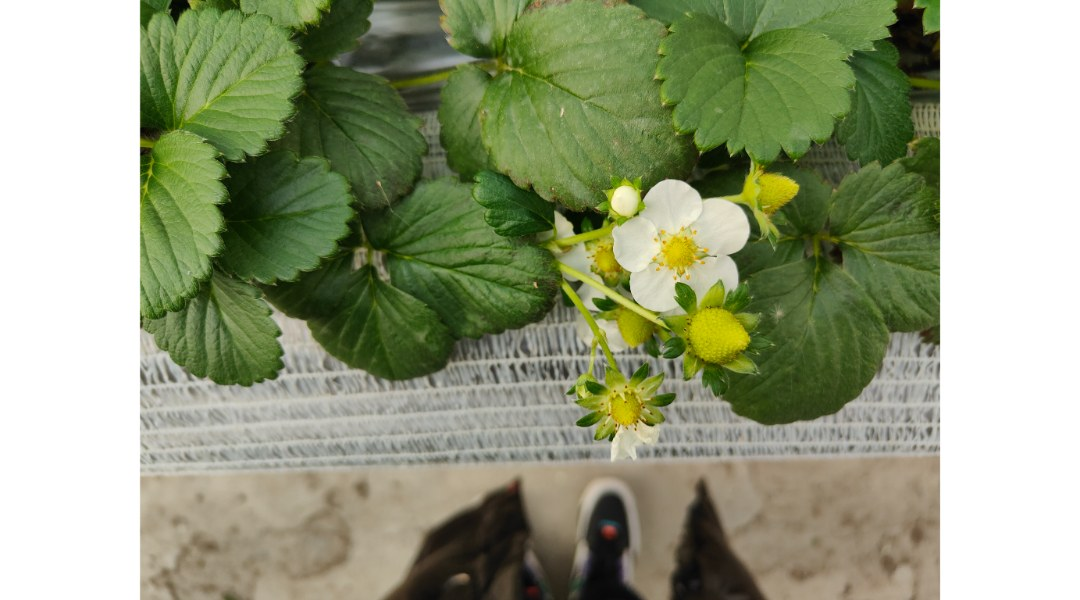berry: (661, 290, 775, 383), (566, 363, 677, 448), (739, 144, 801, 247)
flower: (609, 167, 750, 321)
strain: (563, 261, 661, 339), (550, 285, 612, 356)
